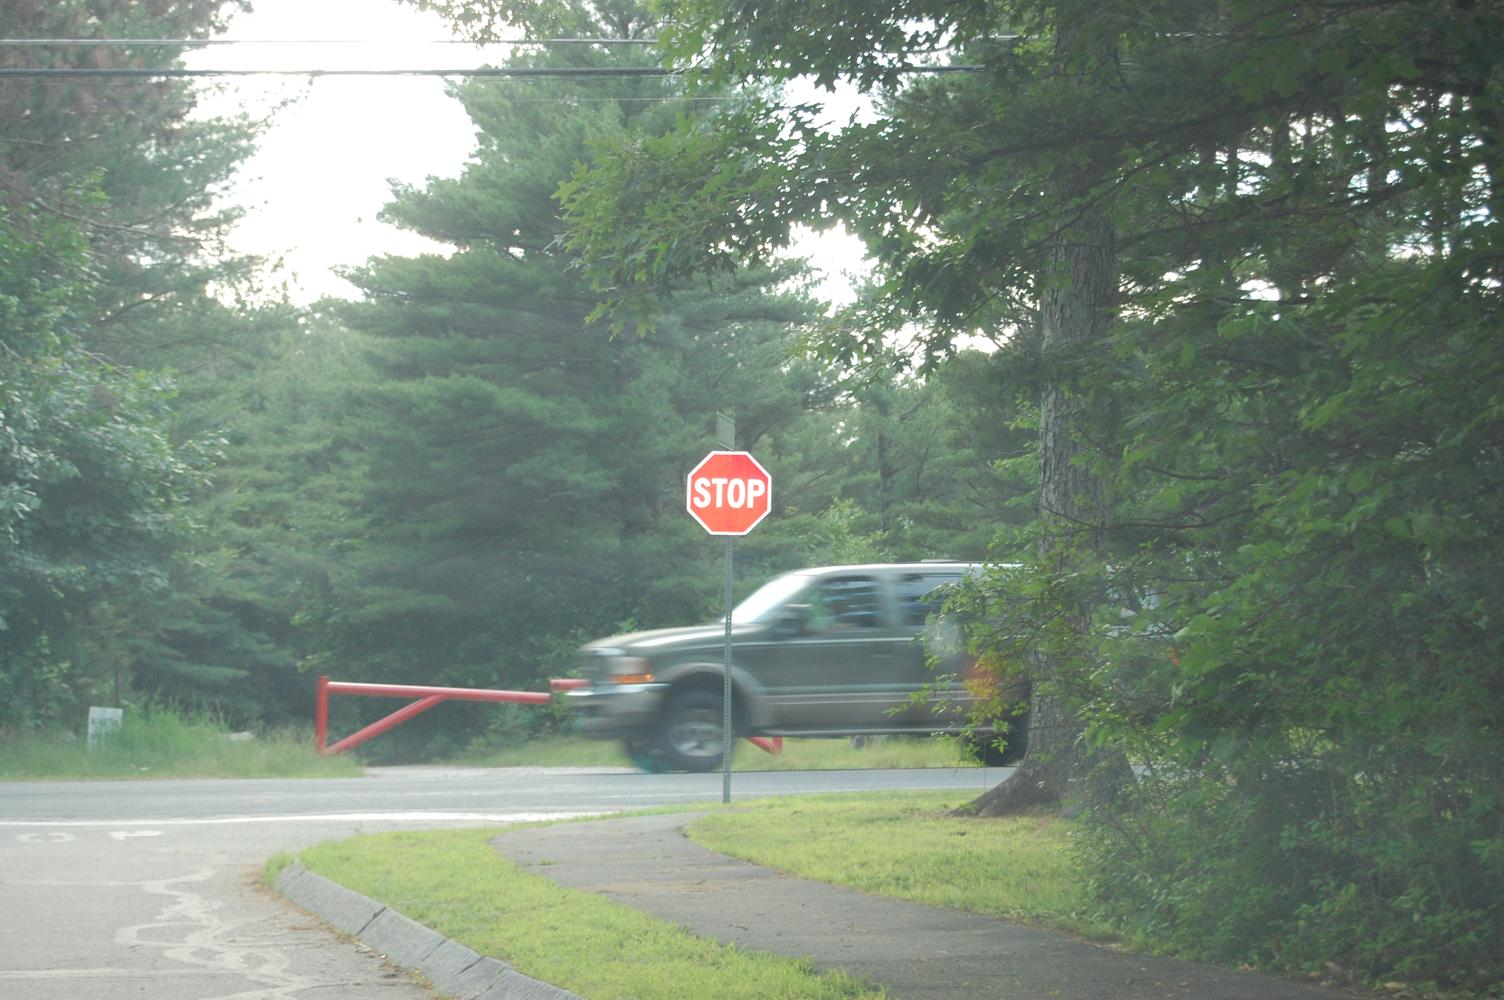stop: (681, 452, 777, 540)
